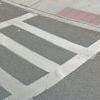Crosswalk: (2, 12, 92, 100)
